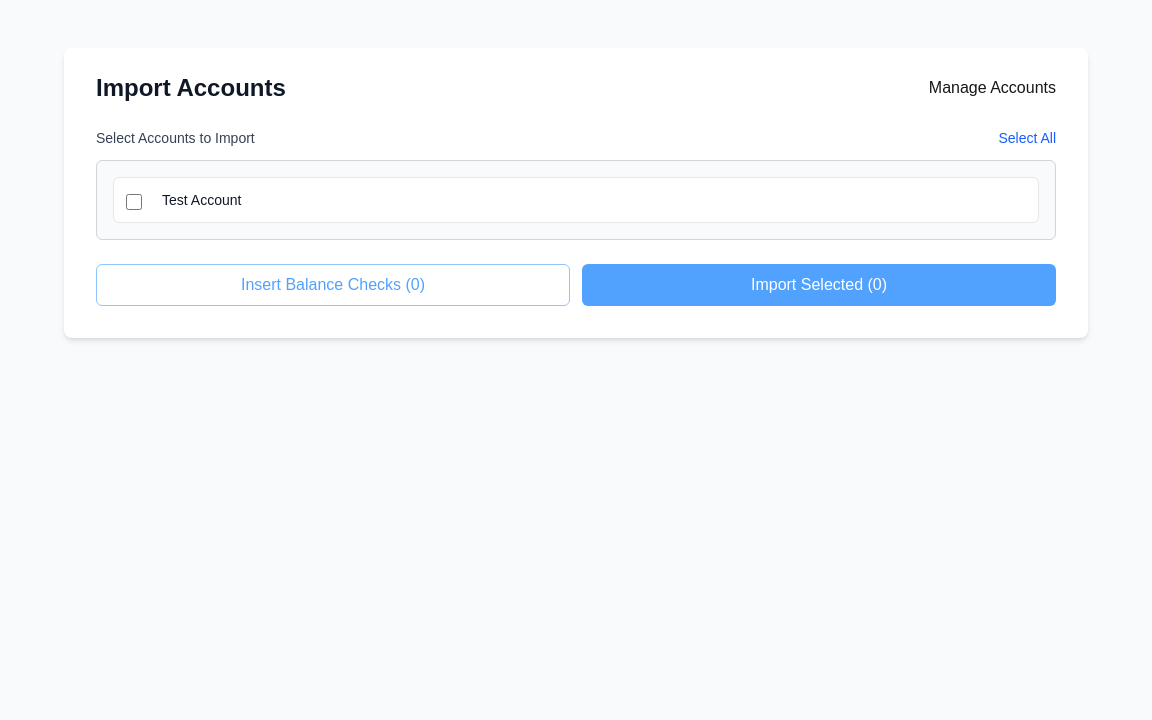
Scenario: ImportUI - Error Handling › should show completed status when import succeeds (has __IMPORT_ID__ marker)
Click the checkbox at (134, 202), box 126,194 -> 142,210
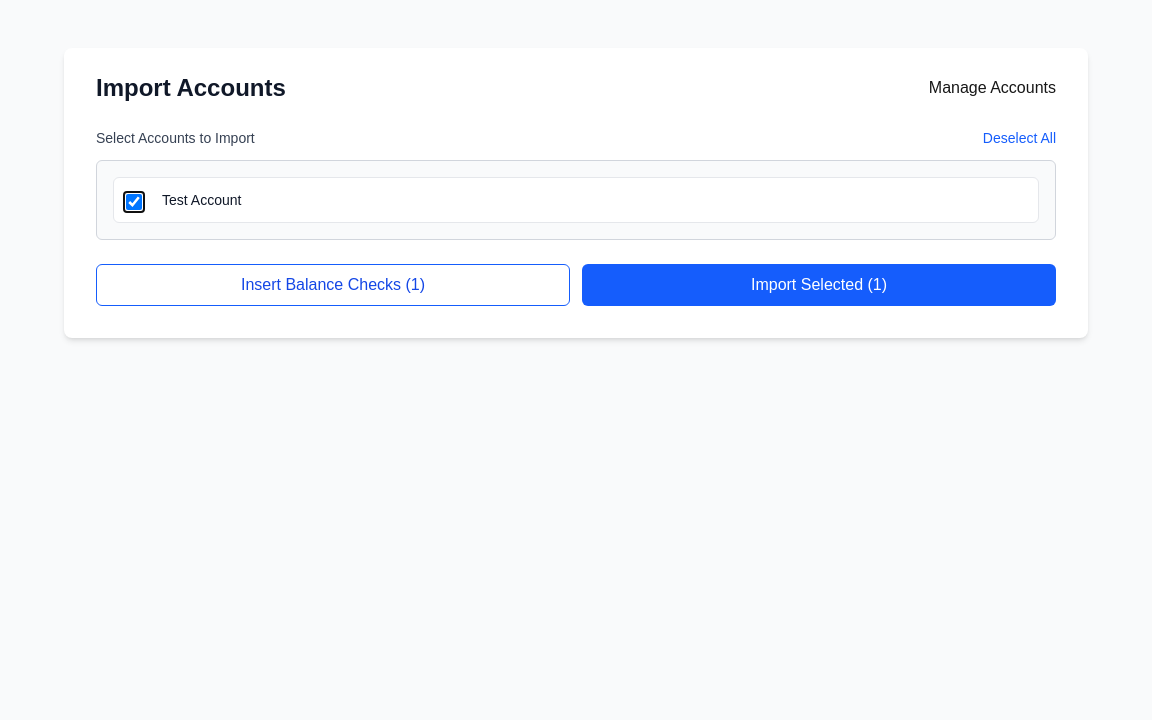
Click the button "Import Selected (1)" at (819, 285), box 582,264 -> 1056,306
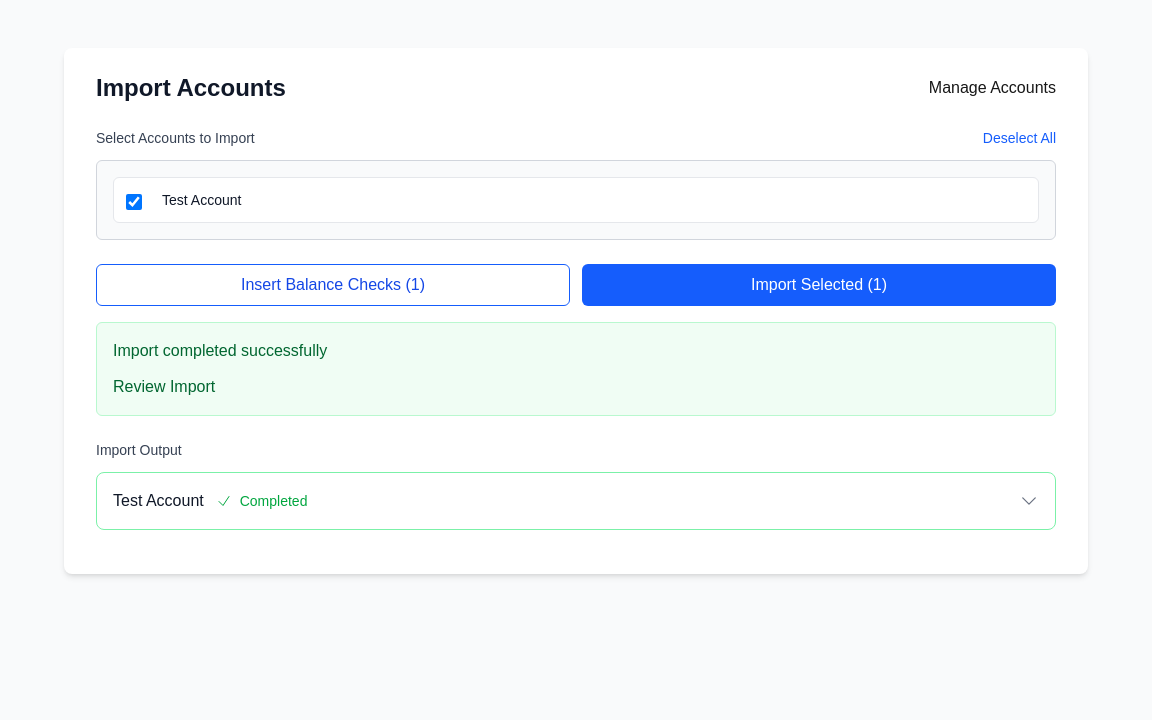
Expected: the text "Completed" is shown, 216,491 -> 307,511
Expected: the link "Review Import" is shown, 113,378 -> 215,395
